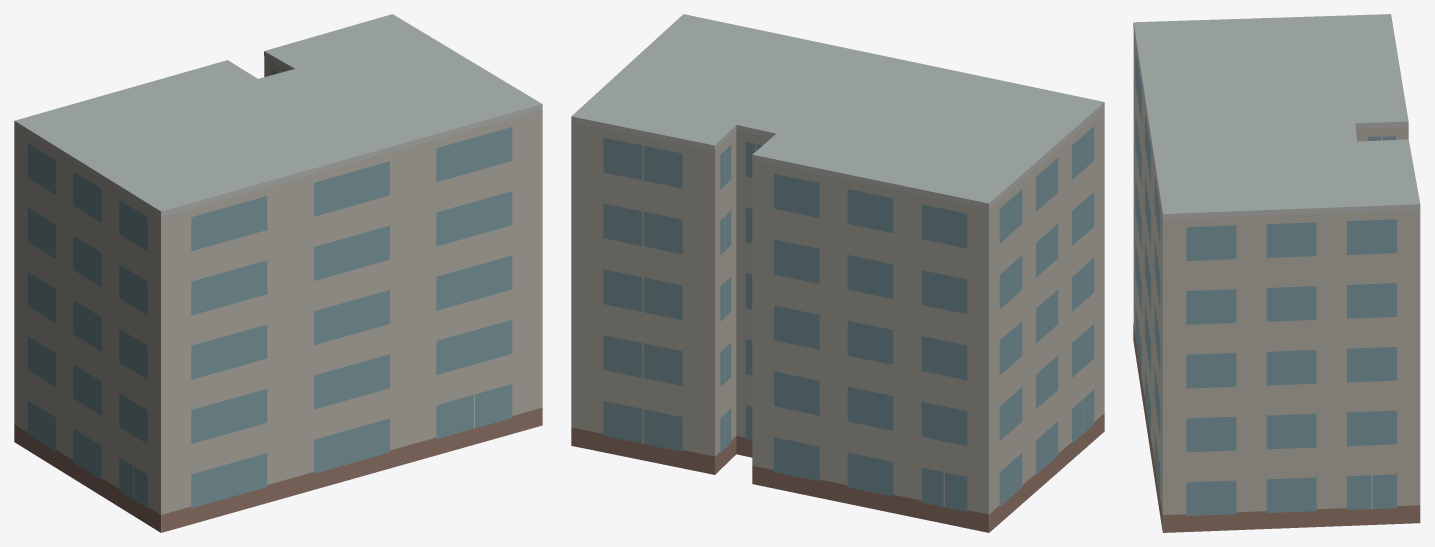
The model's file is survey-upis-33041109.glb.
3 views of the same model, side by side, from view 1: azimuth 30°, elevation 25°; view 2: azimuth 150°, elevation 25°; view 3: azimuth 270°, elevation 25° (orthographic). The views are drawn at different scales.
Parts seen in each view (by area): view 1: survey-upis-33041109.tmp; view 2: survey-upis-33041109.tmp; view 3: survey-upis-33041109.tmp.
Part boxes in pixels (bbox=[...]): survey-upis-33041109.tmp: bbox=[14, 14, 542, 532]; survey-upis-33041109.tmp: bbox=[571, 14, 1104, 532]; survey-upis-33041109.tmp: bbox=[1133, 14, 1420, 532].
Bounding box in the file's own units: 19.92 × 14.8 × 12.08.
